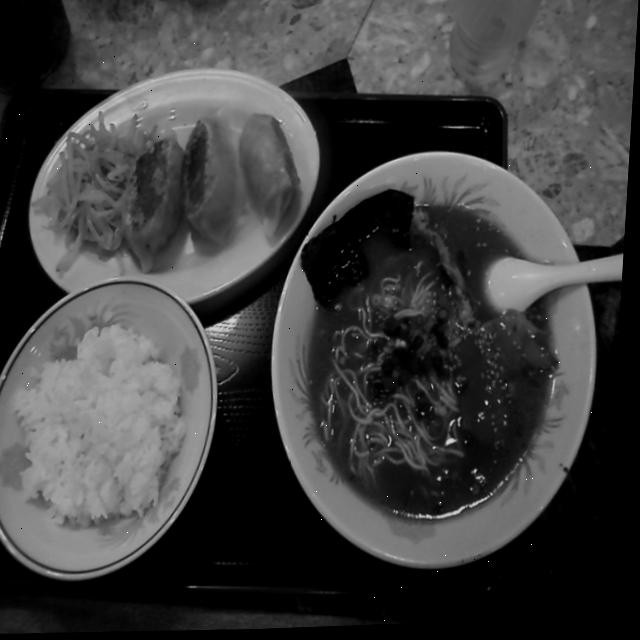带馅早点: (106, 89, 316, 286)
米饭主食: (0, 301, 213, 552)
